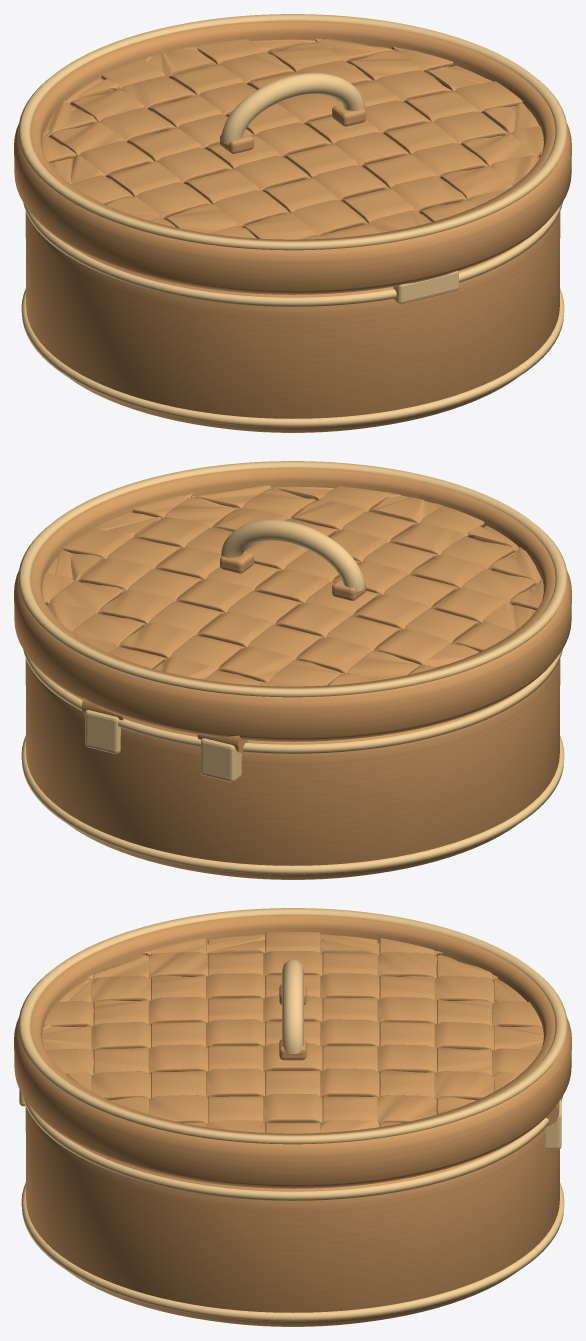
Rendered from bamboo-steamer.glb.
3 renders of one model, top to bottom at view 1: azimuth 30°, elevation 25°; view 2: azimuth 150°, elevation 25°; view 3: azimuth 270°, elevation 25°, orthographic.
Parts seen in each view (by area): view 1: Woven lid, Basket shell, Lid rim, Lid rolled lip, Rolled bamboo binding, Rolled bamboo binding.001, Arched bamboo handle, Inside woven lid, Front thumb clasp, Handle foot.001; view 2: Woven lid, Basket shell, Lid rim, Lid rolled lip, Rolled bamboo binding, Rolled bamboo binding.001, Arched bamboo handle, Inside woven lid, Hinge mount, Hinge mount.001, Handle foot.001; view 3: Woven lid, Basket shell, Lid rim, Lid rolled lip, Rolled bamboo binding, Rolled bamboo binding.001, Arched bamboo handle, Inside woven lid.
Part boxes in pixels (bbox=[...]): Woven lid: bbox=[42, 38, 543, 239]; Basket shell: bbox=[25, 211, 560, 432]; Lid rim: bbox=[14, 20, 571, 294]; Lid rolled lip: bbox=[18, 14, 567, 250]; Rolled bamboo binding: bbox=[21, 288, 564, 427]; Rolled bamboo binding.001: bbox=[23, 202, 562, 306]; Arched bamboo handle: bbox=[221, 72, 364, 144]; Inside woven lid: bbox=[44, 39, 539, 220]; Front thumb clasp: bbox=[393, 271, 458, 304]; Handle foot.001: bbox=[332, 104, 365, 126]; Woven lid: bbox=[42, 485, 543, 686]; Basket shell: bbox=[25, 658, 560, 879]; Lid rim: bbox=[14, 467, 571, 741]; Lid rolled lip: bbox=[18, 461, 567, 697]; Rolled bamboo binding: bbox=[21, 735, 564, 874]; Rolled bamboo binding.001: bbox=[23, 649, 562, 753]; Arched bamboo handle: bbox=[221, 519, 364, 591]; Inside woven lid: bbox=[46, 486, 541, 667]; Hinge mount: bbox=[201, 738, 241, 782]; Hinge mount.001: bbox=[85, 710, 120, 753]; Handle foot.001: bbox=[220, 551, 253, 573]; Woven lid: bbox=[42, 932, 543, 1133]; Basket shell: bbox=[25, 1106, 559, 1326]; Lid rim: bbox=[14, 914, 571, 1188]; Lid rolled lip: bbox=[18, 908, 567, 1144]; Rolled bamboo binding: bbox=[21, 1182, 564, 1321]; Rolled bamboo binding.001: bbox=[24, 1096, 562, 1200]; Arched bamboo handle: bbox=[282, 960, 303, 1053]; Inside woven lid: bbox=[59, 934, 526, 1001].
Bounding box in the file's own units: 1.34 × 0.6746 × 1.34.
Materials: 3 (1 with a texture image).
